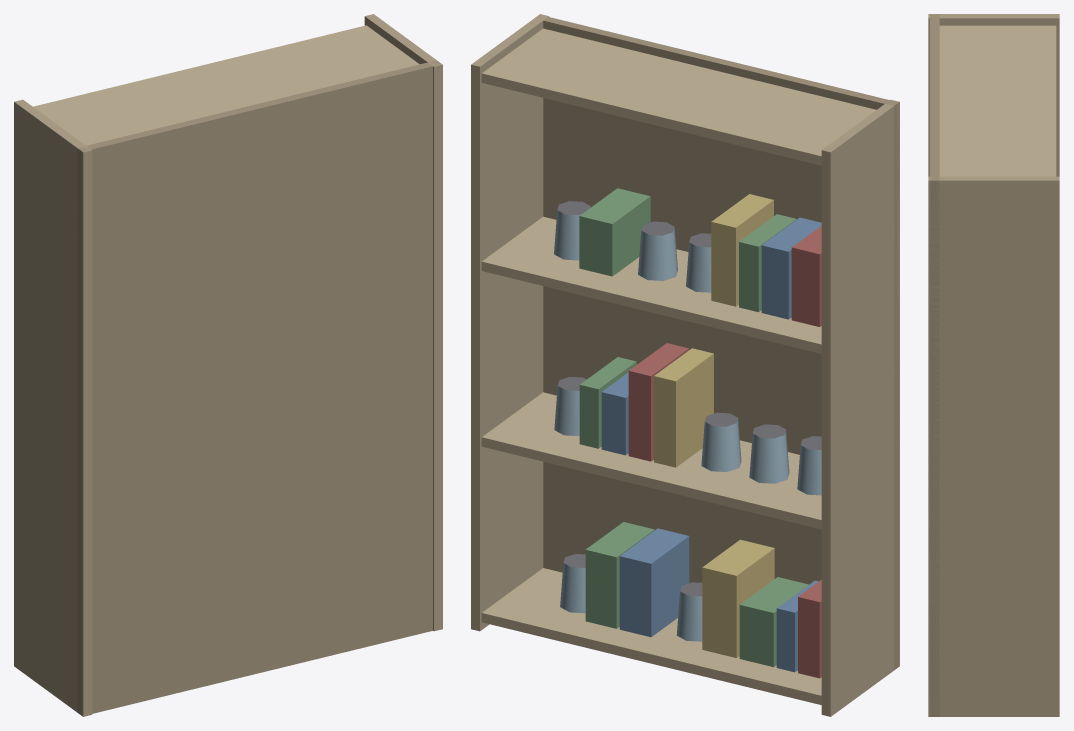
The model's file is shelf.glb.
3 views of the same model, side by side, from view 1: azimuth 30°, elevation 25°; view 2: azimuth 150°, elevation 25°; view 3: azimuth 270°, elevation 25° (orthographic). The views are drawn at different scales.
Parts seen in each view (by area): view 1: shelf; view 2: shelf; view 3: shelf.
Part boxes in pixels (<box>): shelf: <box>14,14,442,716</box>; shelf: <box>471,14,899,716</box>; shelf: <box>928,14,1059,716</box>.
Bounding box in the file's own units: 1.2 × 1.8 × 0.4.
